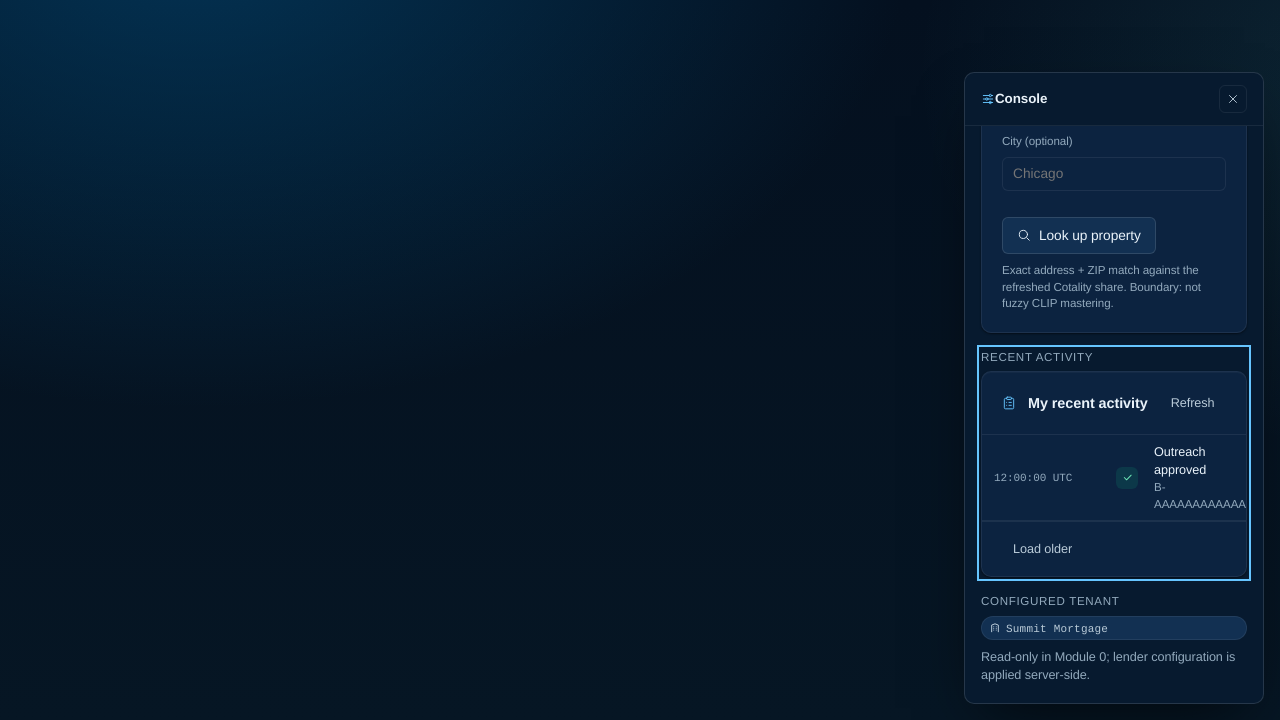
Test: Console actor-scoped recent activity › renders, focuses, and pages safe summaries without exposing Admin or payload data
(page scrolled)
Expected: the element with id "console-recent-activity" is shown, [981, 348, 1247, 577]
Expected: the element with id "console-recent-activity" shows "My recent activity", [1028, 394, 1148, 412]
Click the button "Load older" at (1043, 549), box [1002, 534, 1083, 564]
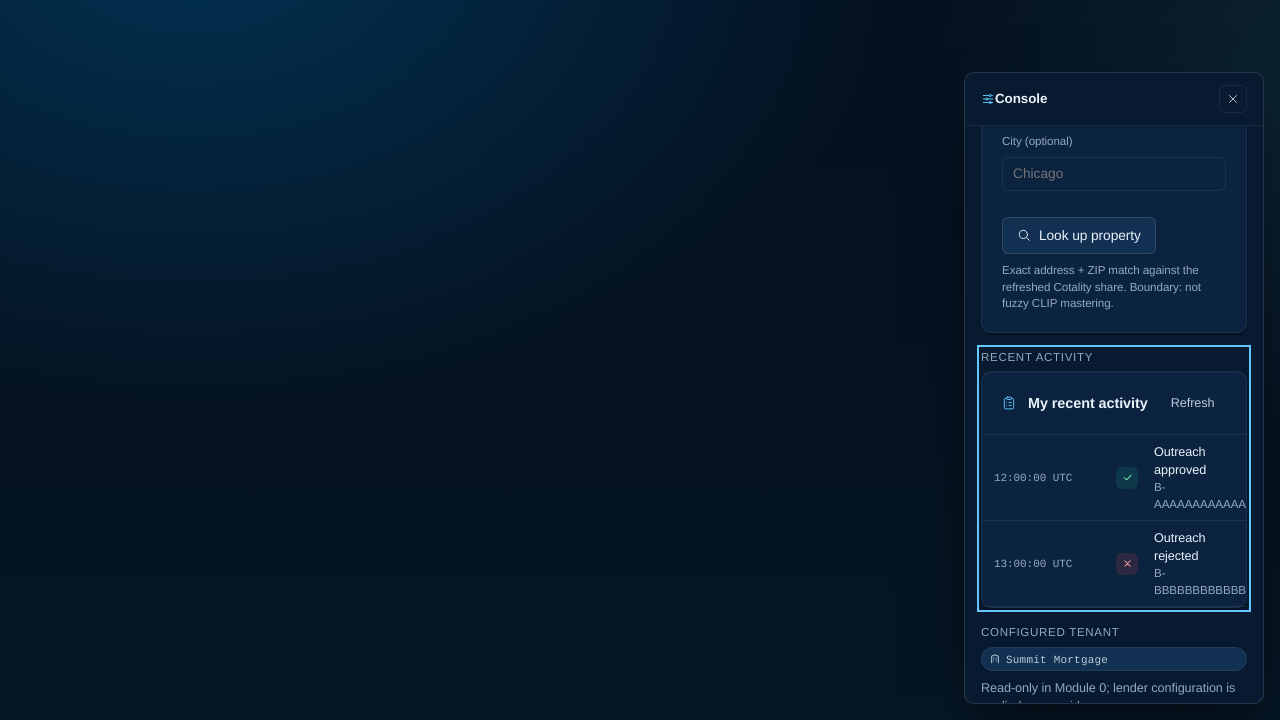
Now the element with id "console-recent-activity" shows "Outreach rejected", box [1154, 530, 1206, 564]
Now the element with id "console-recent-activity" shows "B-BBBBBBBBBBBB2", box [1154, 566, 1252, 596]
